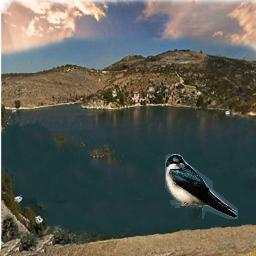Swallow: (165, 154, 238, 219)
